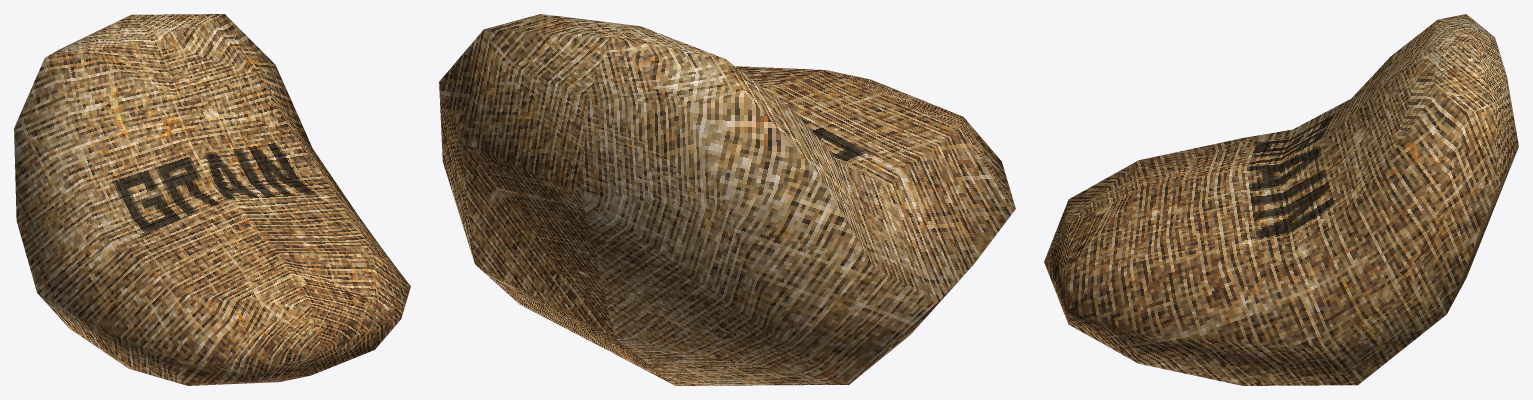
Rendered from BagGrainSlouched.glb.
The picture shows the model from 3 angles, left to right: view 1: azimuth 30°, elevation 25°; view 2: azimuth 150°, elevation 25°; view 3: azimuth 270°, elevation 25°; orthographic projection. The views are drawn at different scales.
Visible parts, largest first — view 1: BagGrainSlouched; view 2: BagGrainSlouched; view 3: BagGrainSlouched.
Part boxes in pixels (x1,y1,x2,y2): BagGrainSlouched: (14, 14, 410, 385); BagGrainSlouched: (439, 14, 1015, 385); BagGrainSlouched: (1044, 14, 1518, 385).
Size of the model in its own units: 0.9542 by 0.7904 by 1.09.
1 material, 1 textured.
